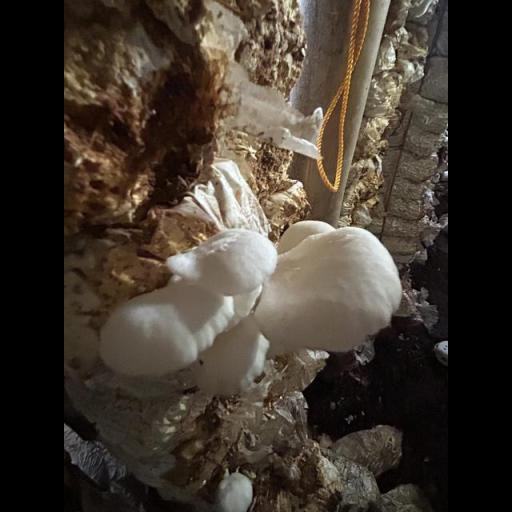White Oyster Mushroom: (105, 217, 402, 391)
